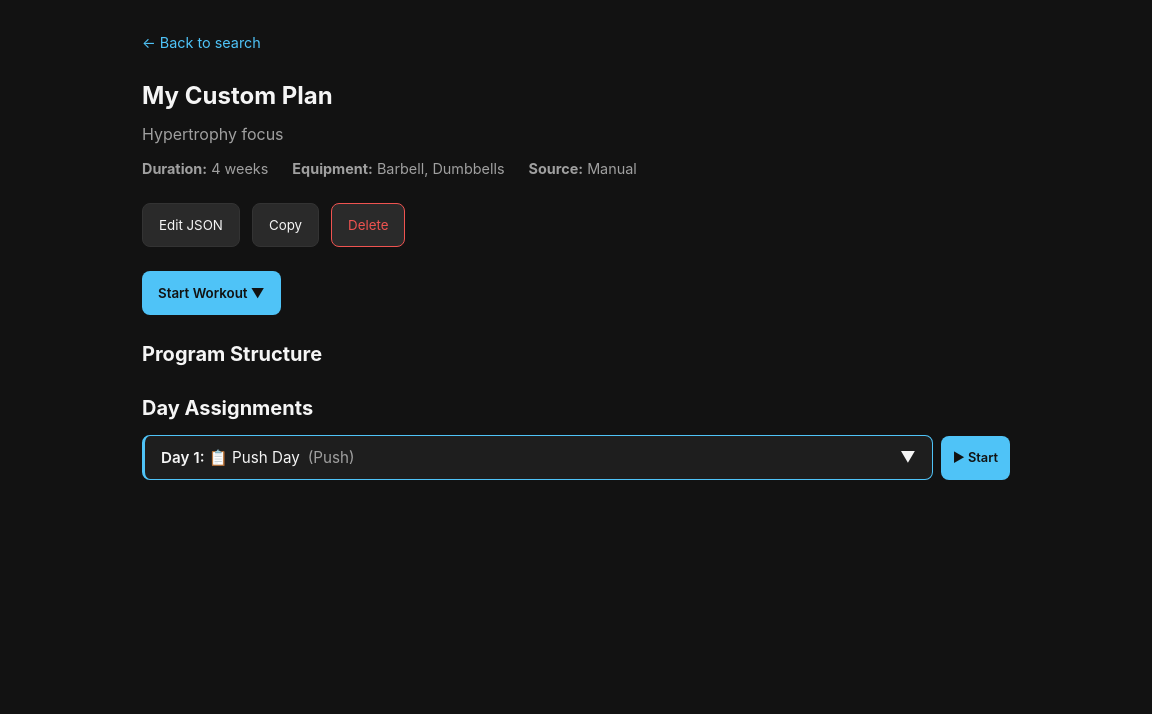
Test: ProgramDetailPage — Copied Day Rendering › full snapshot structure rendering (Requirement 12.1) › renders the day assignment section with copied day block
The width and height of the screenshot is (1152, 714).
Expected: the heading "Day Assignments" is shown, left=142, top=396, right=313, bottom=420
# Expand the copied day block
What coordinates should you click on to do the following:
click the button "Day 1: 📋 Push Day(Push) ▼"
I would click on:
 (177, 458)
Its box is left=142, top=435, right=933, bottom=480.
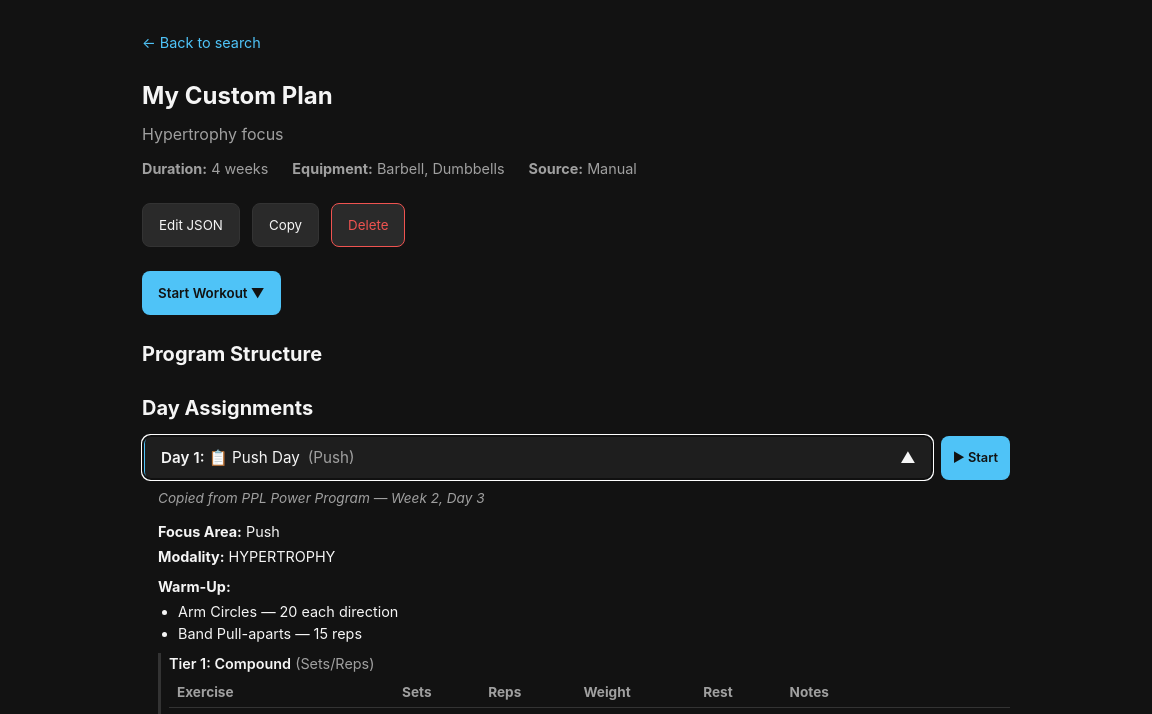
Now the text "Warm-Up:" is shown, box left=158, top=578, right=231, bottom=595
Now the list item "Arm Circles — 20 each direction" is shown, box left=178, top=603, right=398, bottom=620
Now the list item "Band Pull-aparts — 15 reps" is shown, box left=178, top=625, right=362, bottom=642
